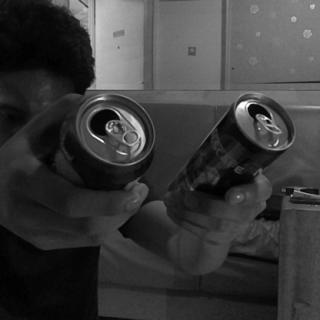alumunium_can: (166, 91, 295, 218), (47, 91, 155, 191)
